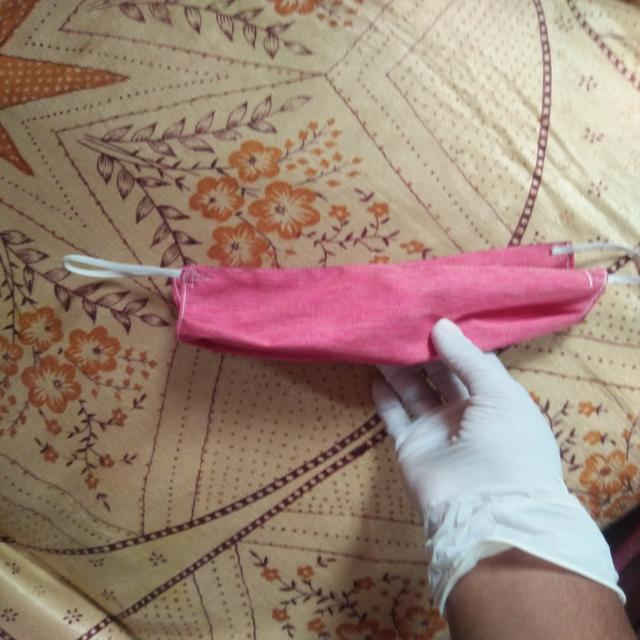glove_hand: (348, 308, 632, 622)
